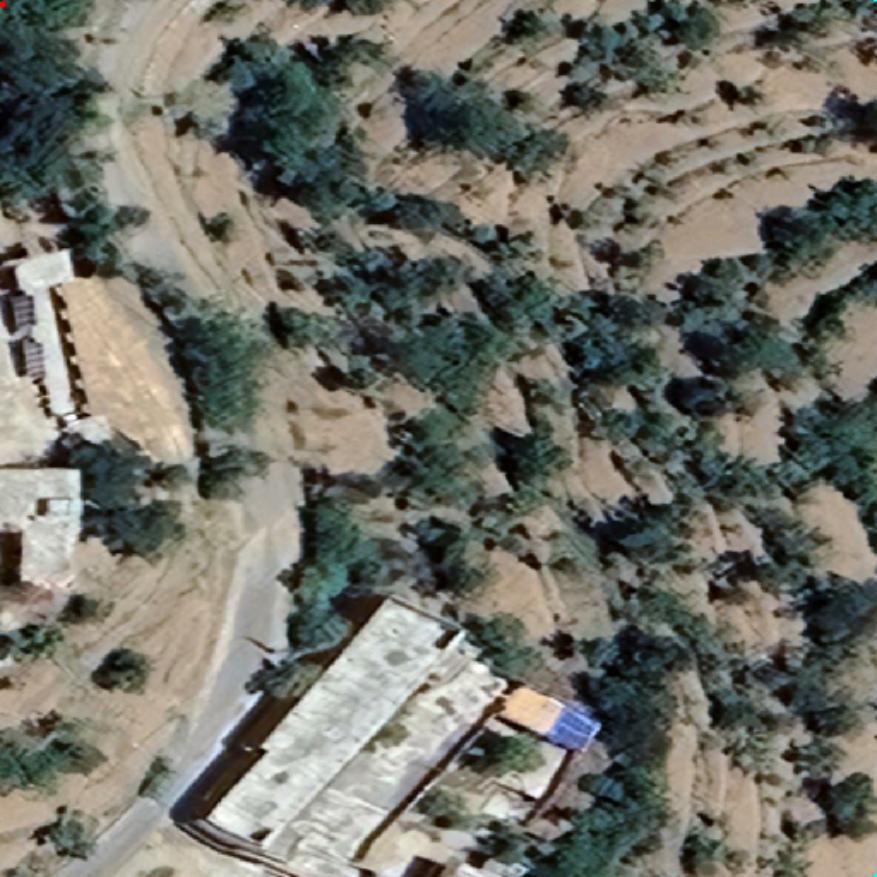Solarpanel: (19, 337, 46, 380), (9, 292, 38, 330)
